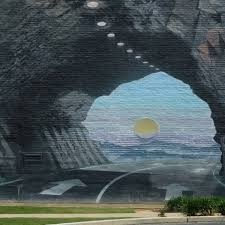painting: (1, 1, 225, 203)
